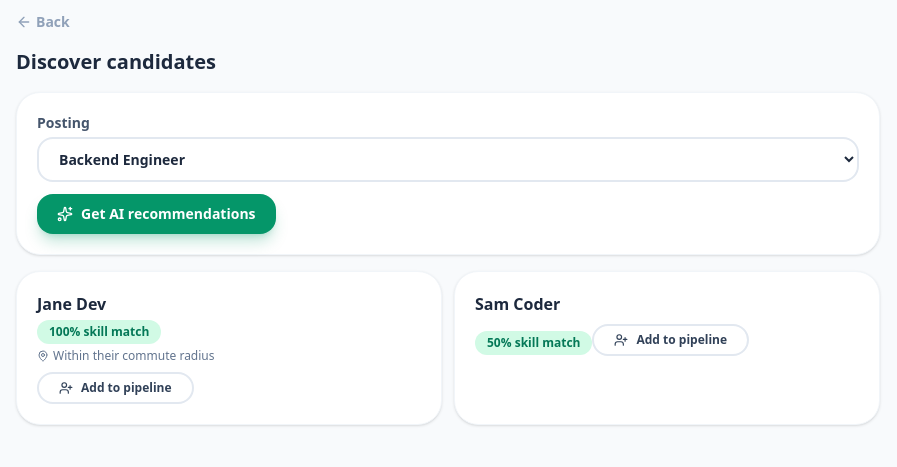
Test: Discovery › shows an error when getting AI recommendations fails
Check: the text "Jane Dev" is shown, box [37,293,106,315]
Click the button "Get AI recommendations" at (156, 214), box [37,194,276,234]
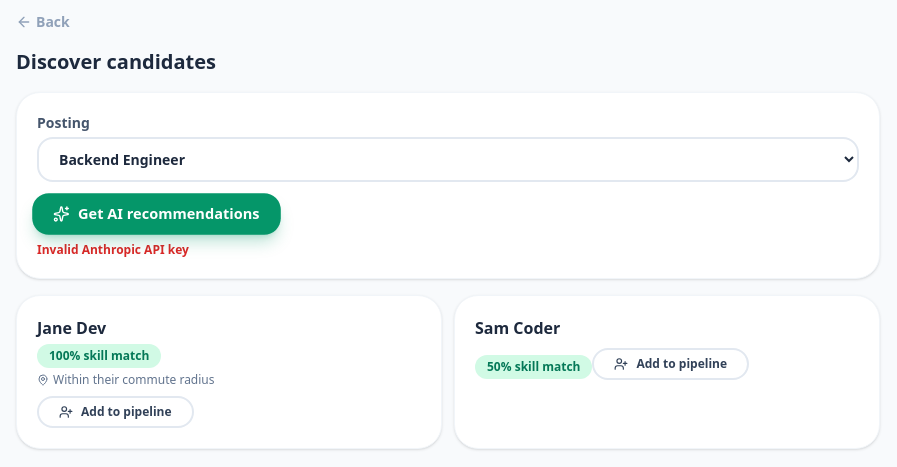
Check: the message reads "Invalid Anthropic API key", box [37,241,189,258]
